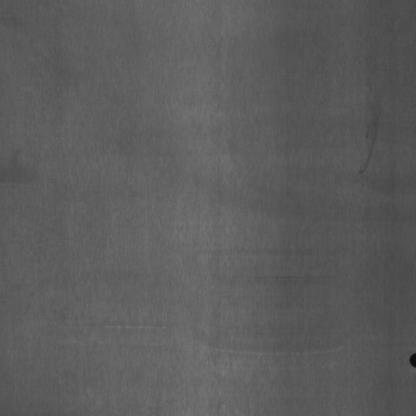punching_hole: (408, 353, 416, 372)
